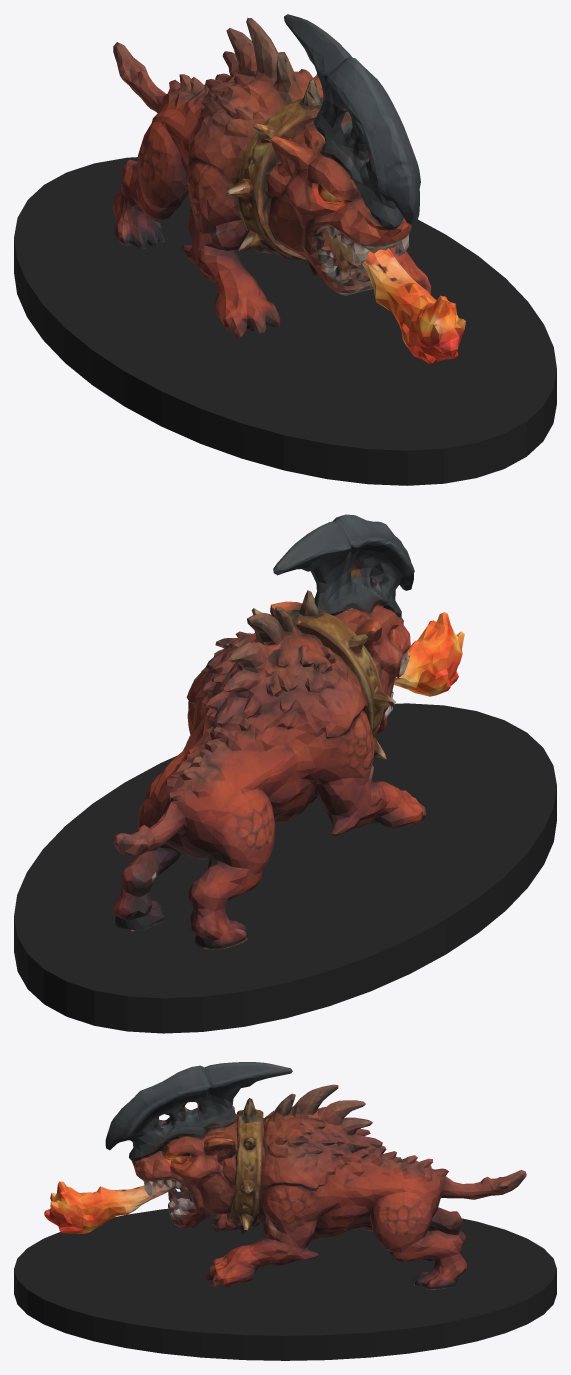
The model's file is gore-hound.glb.
3 views of the same model, one above another, from view 1: azimuth 30°, elevation 25°; view 2: azimuth 150°, elevation 25°; view 3: azimuth 270°, elevation 25° (orthographic). The views are drawn at different scales.
Parts seen in each view (by area): view 1: base, figure; view 2: base, figure; view 3: base, figure.
Boxes of the visible parts, x1,y1,x2,y2 form: base: (14,157,556,485); figure: (112,14,465,363); base: (14,703,556,1033); figure: (112,514,464,950); base: (14,1208,556,1360); figure: (44,1062,526,1290).
Size of the model in its own units: 1.38 by 1.12 by 2.36.
Materials: 2 (1 with a texture image).
